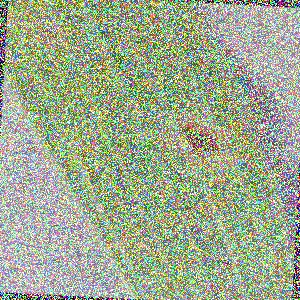Bacterial_Leaf_Blight: (162, 113, 237, 172), (169, 86, 200, 101), (209, 254, 236, 269), (38, 24, 59, 38), (144, 240, 165, 254), (206, 284, 224, 298), (76, 132, 95, 145)
